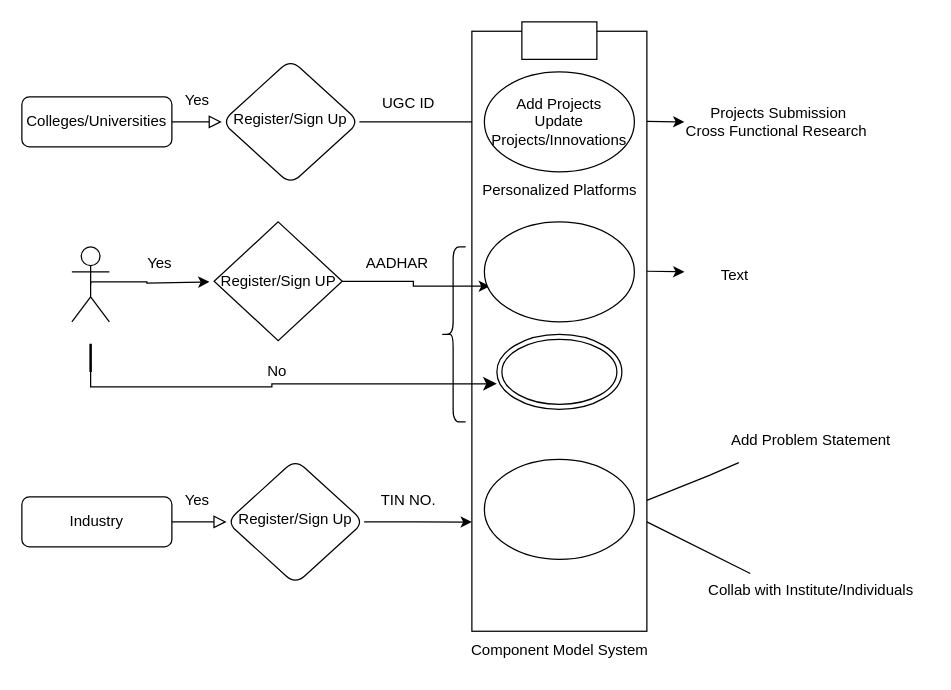
The diagram is 951 pixels wide and 690 high, and some of its shapes have lost their labels. Here are the shapes that lost their labels. From the top down, the centre of each, then its label:
(559,40): System
(90,284): Individual
(558,271): Idea Submission, Collaborations
